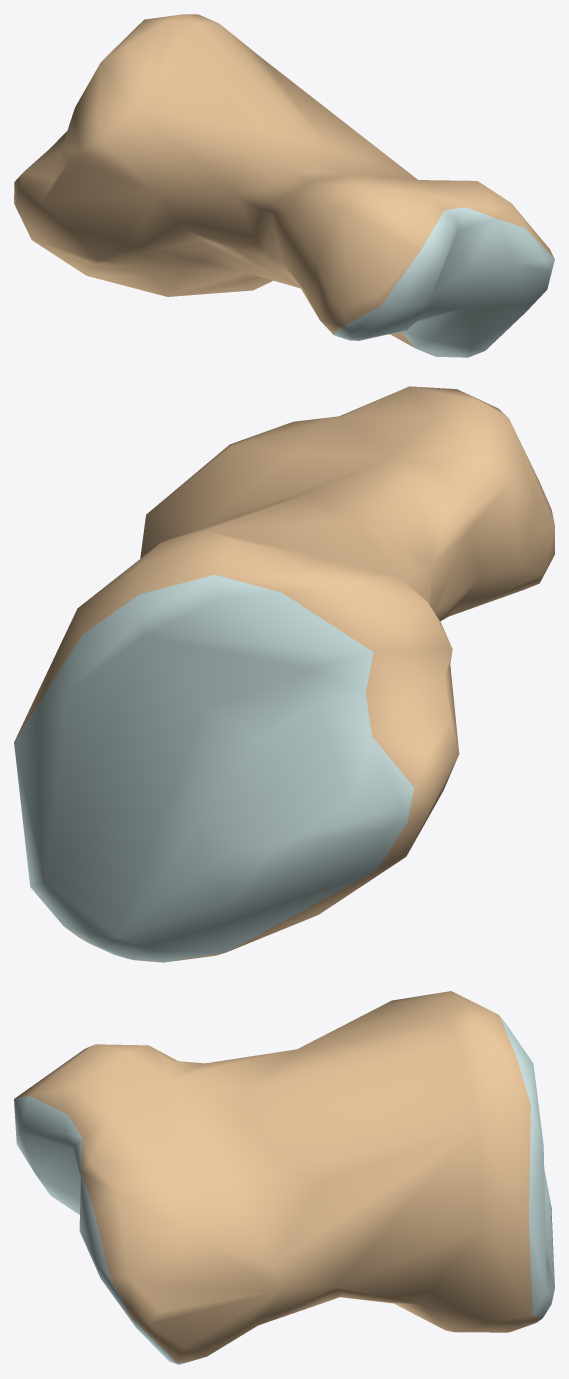
Rendered from Middle_phalanx_of_4th_finger_of_foot.l_Generated_Mesh_From_X3D..glb.
3 renders of one model, top to bottom at view 1: azimuth 30°, elevation 25°; view 2: azimuth 150°, elevation 25°; view 3: azimuth 270°, elevation 25°, orthographic. The views are drawn at different scales.
Parts seen in each view (by area): view 1: Middle_phalanx_of_4th_finger_of_foot.l_Generated_Mesh_From_X; view 2: Middle_phalanx_of_4th_finger_of_foot.l_Generated_Mesh_From_X; view 3: Middle_phalanx_of_4th_finger_of_foot.l_Generated_Mesh_From_X.
Part boxes in pixels (box(x1,y1,x2,y2)): Middle_phalanx_of_4th_finger_of_foot.l_Generated_Mesh_From_X: box(14, 14, 554, 357); Middle_phalanx_of_4th_finger_of_foot.l_Generated_Mesh_From_X: box(14, 386, 554, 962); Middle_phalanx_of_4th_finger_of_foot.l_Generated_Mesh_From_X: box(14, 991, 554, 1364).
Bounding box in the file's own units: 0.0111 × 0.00834 × 0.0141.
